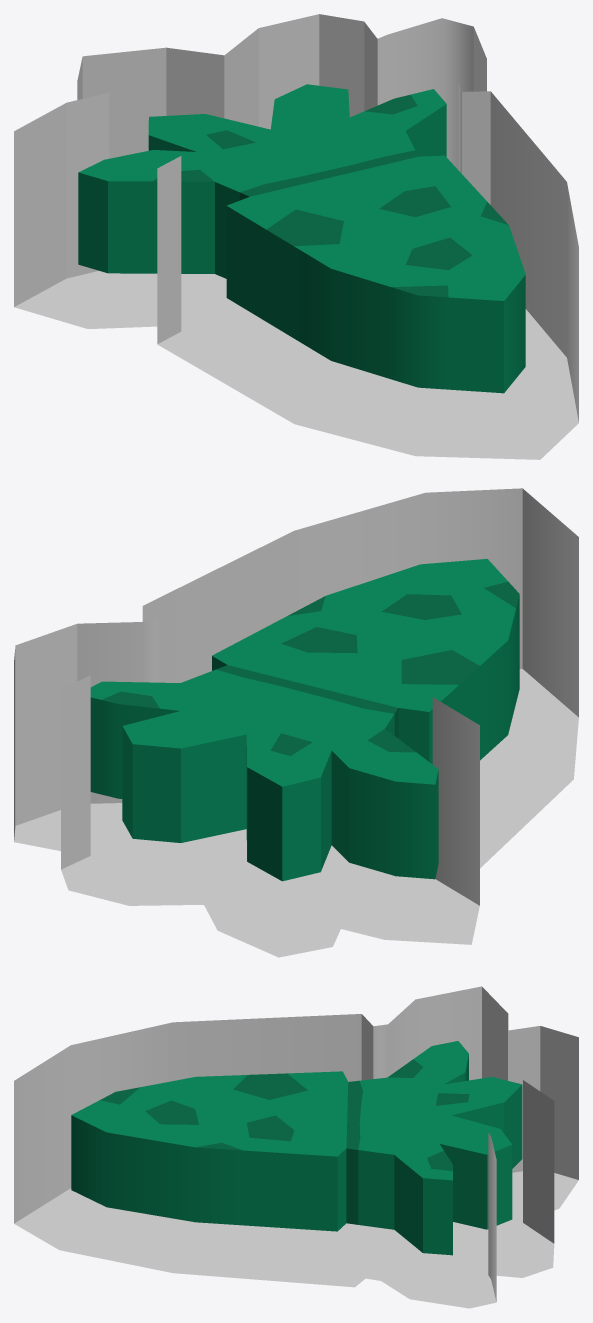
The model's file is MiniSquid_10.glb.
3 views of the same model, one above another, from view 1: azimuth 30°, elevation 25°; view 2: azimuth 150°, elevation 25°; view 3: azimuth 270°, elevation 25° (orthographic). The views are drawn at different scales.
Visible parts, largest first — view 1: MiniSquid; view 2: MiniSquid; view 3: MiniSquid.
Part boxes in pixels (x1,y1,x2,y2): MiniSquid: (14, 14, 578, 459); MiniSquid: (14, 488, 578, 957); MiniSquid: (14, 986, 578, 1308).
Size of the model in its own units: 0.174 by 0.0647 by 0.2317.
